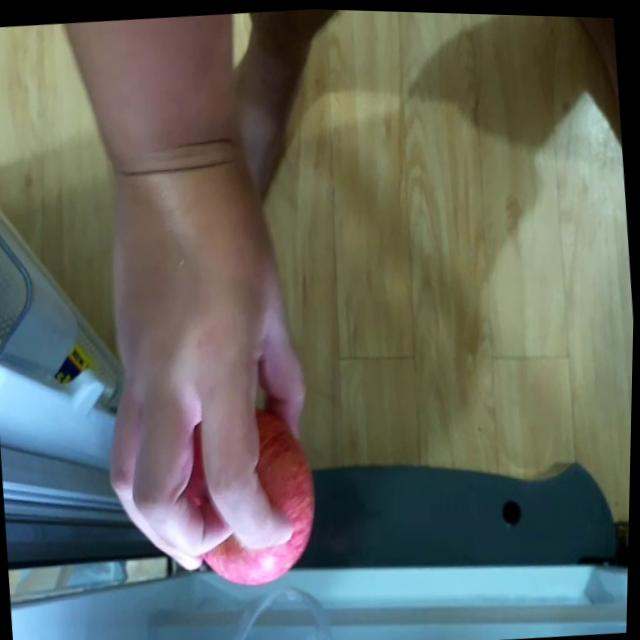apple: (178, 400, 325, 587)
